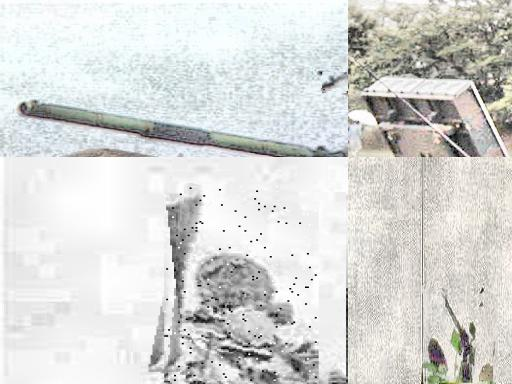tanks: (167, 187, 318, 384), (21, 102, 349, 158), (425, 291, 478, 384), (323, 78, 348, 91), (479, 365, 494, 384)
